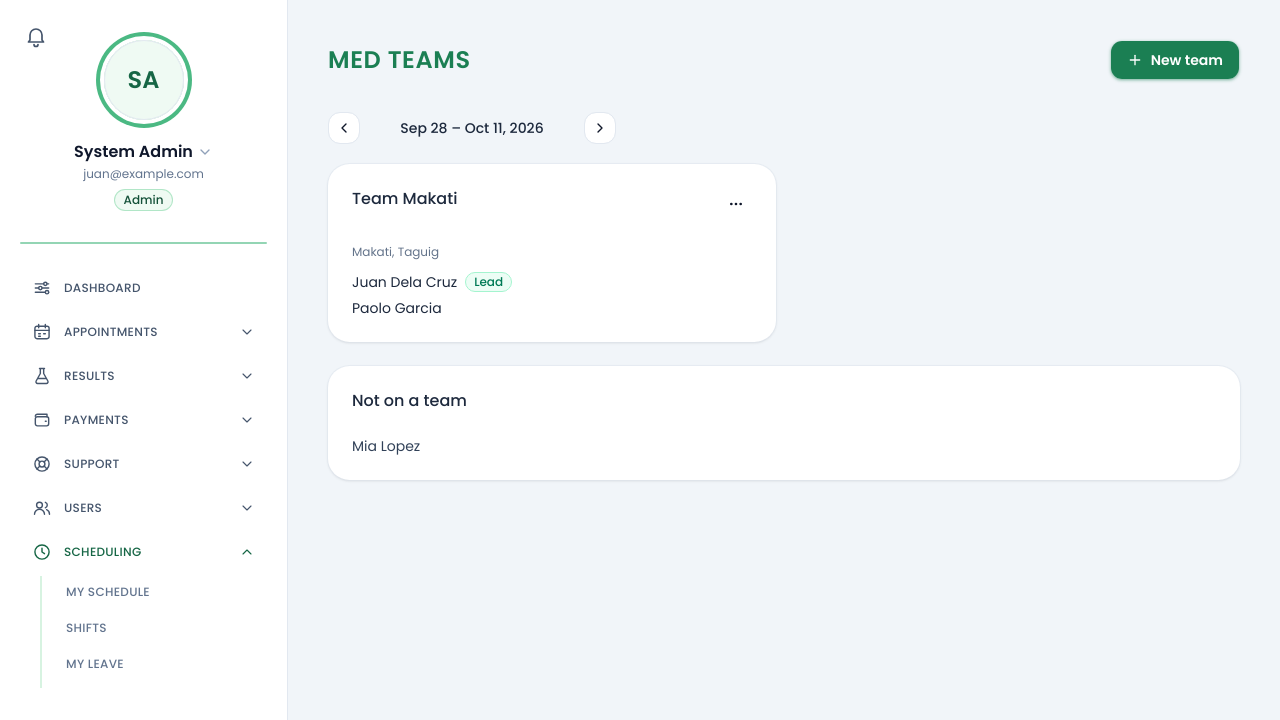
Test case: TeamsPage › shows a clash with another team under the members
Click the button named "Actions for Team Makati" at [736, 204], box [720, 188, 752, 220]
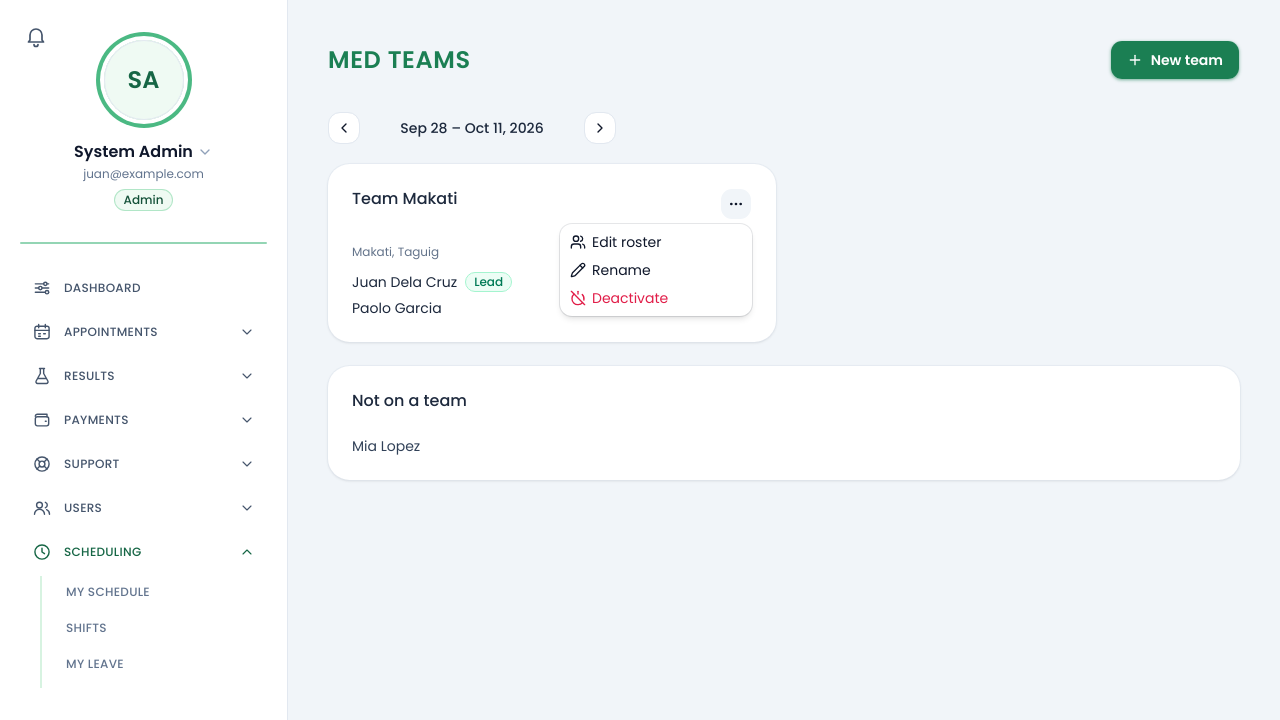
Click the menu item "Edit roster" at [616, 242], box [570, 232, 661, 252]
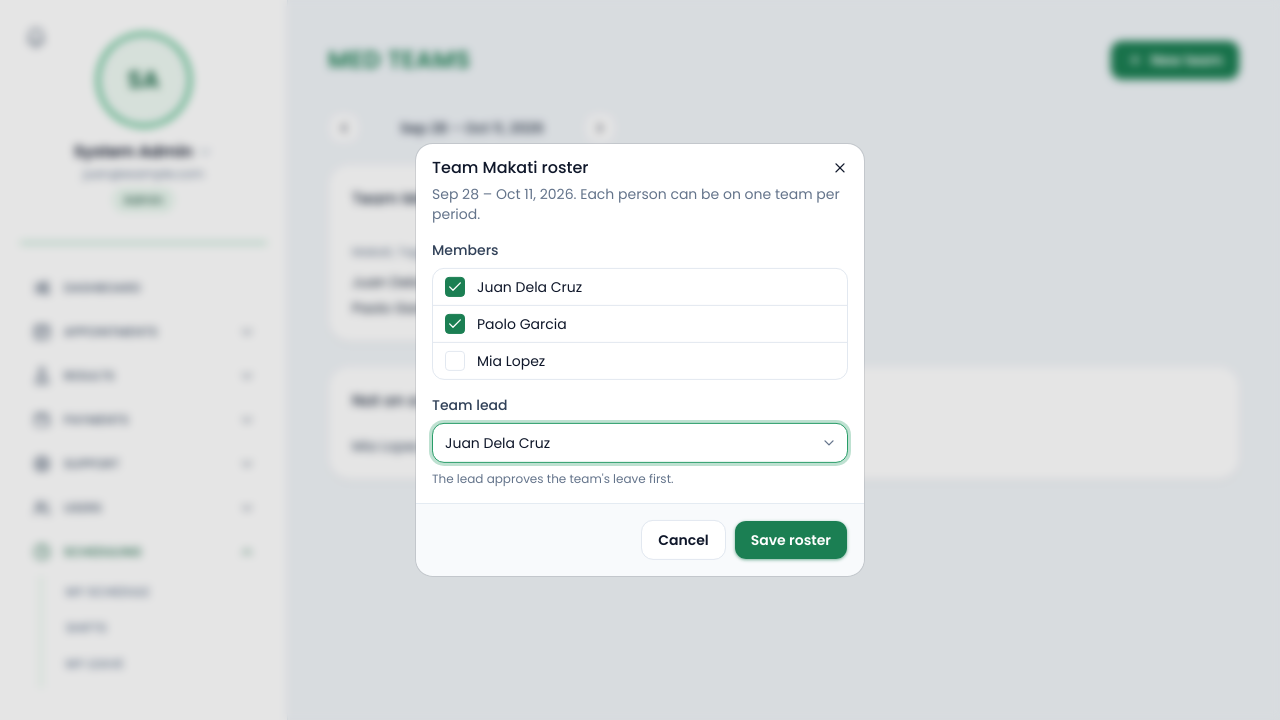
Now the 1st checkbox named "Juan Dela Cruz" is shown, box [445, 277, 465, 297]
Click the button "Save roster" at [791, 540], box [734, 520, 848, 560]
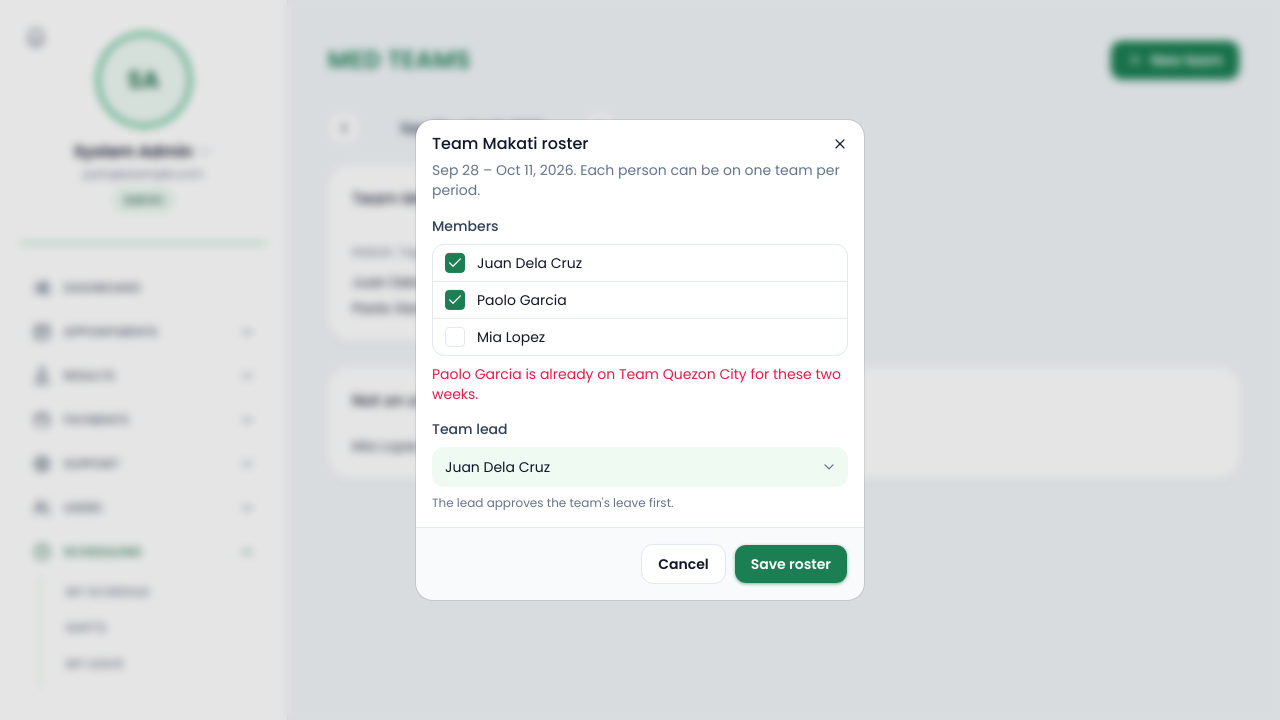
Now the text "already on Team Quezon City" is shown, box [432, 364, 841, 404]
